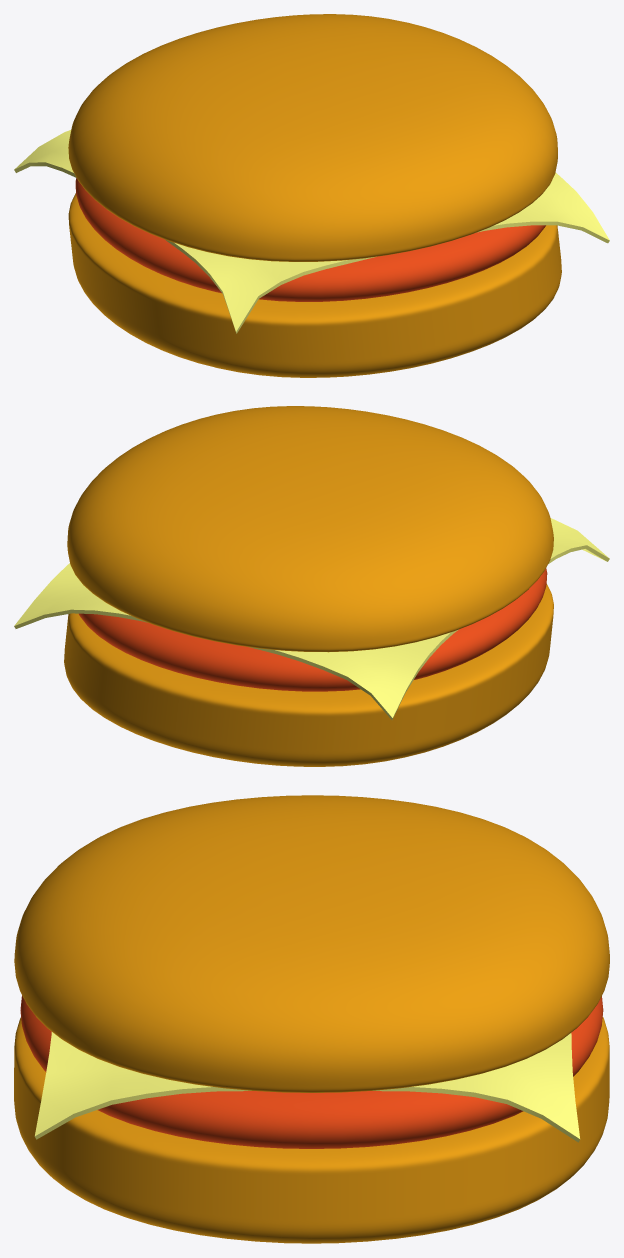
File: hamburger.glb
The picture shows the model from 3 angles, top to bottom: view 1: azimuth 30°, elevation 25°; view 2: azimuth 150°, elevation 25°; view 3: azimuth 270°, elevation 25°; orthographic projection. The views are drawn at different scales.
Parts seen in each view (by area): view 1: Cube.002, Cube, Cube.001, Plane; view 2: Cube.002, Cube, Cube.001, Plane; view 3: Cube.002, Cube, Cube.001, Plane.
Part boxes in pixels (left/top/right/bottom): Cube.002: left=68, top=14, right=557, bottom=261; Cube: left=68, top=193, right=561, bottom=377; Cube.001: left=75, top=178, right=545, bottom=301; Plane: left=14, top=130, right=609, bottom=333; Cube.002: left=67, top=406, right=553, bottom=652; Cube: left=64, top=584, right=553, bottom=766; Cube.001: left=79, top=568, right=547, bottom=691; Plane: left=14, top=518, right=609, bottom=719; Cube.002: left=14, top=795, right=609, bottom=1092; Cube: left=14, top=1017, right=609, bottom=1243; Cube.001: left=20, top=995, right=603, bottom=1148; Plane: left=34, top=1032, right=580, bottom=1142.
Size of the model in its own units: 9.45 by 4.81 by 9.36.
